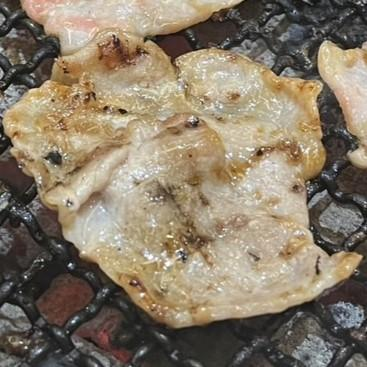Overcooked: (3, 29, 362, 330)
Undercooked: (20, 0, 247, 57)
Well-Cooked: (318, 41, 366, 170)
